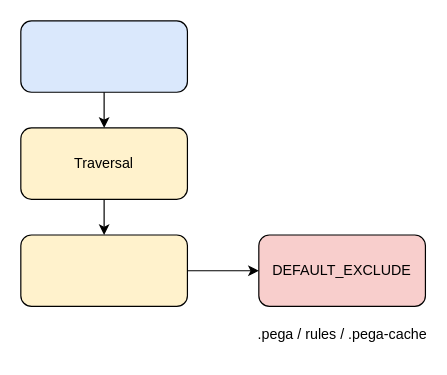
Some shapes in this 447 by 375 pixel diagram are drawn without their labels. Here are the shapes that lost their labels. From the top down, the centre of each, then its label:
[103,56]: File Scanner
[103,270]: shouldExclude
